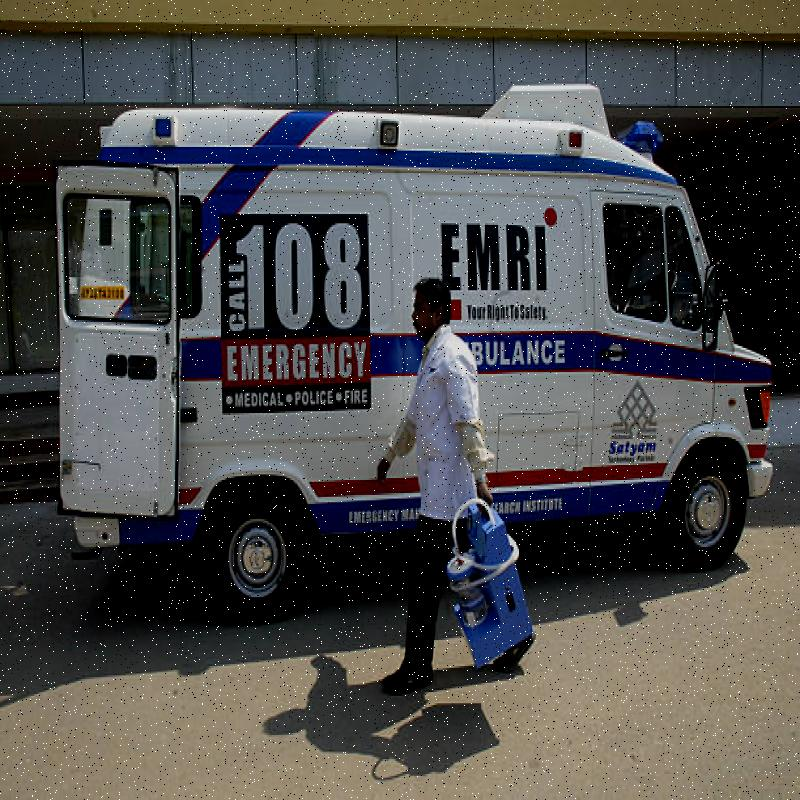ambulance: (56, 101, 747, 576)
